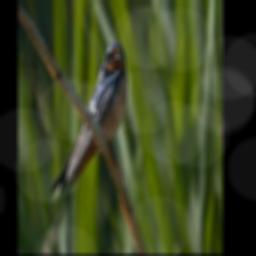Swallow: (46, 39, 127, 236)
